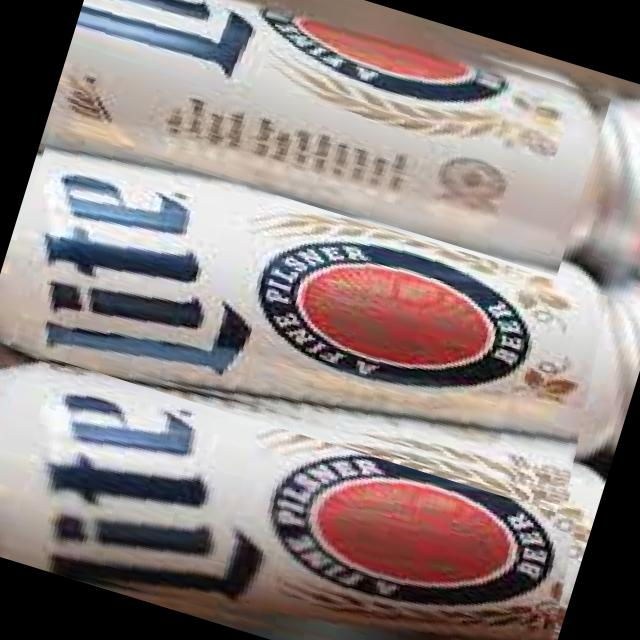Cans: (0, 125, 625, 507), (0, 338, 592, 640), (47, 0, 614, 275)
